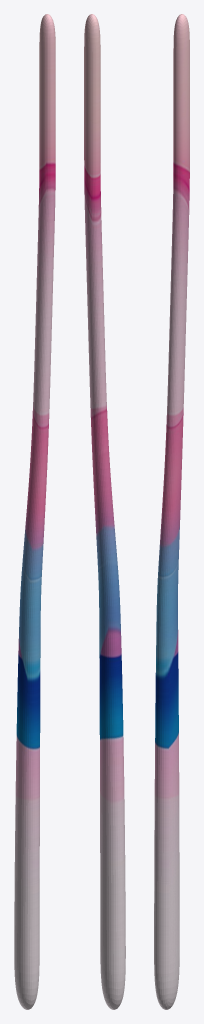
File: testTree.glb
The picture shows the model from 3 angles, left to right: view 1: azimuth 30°, elevation 25°; view 2: azimuth 210°, elevation 25°; view 3: azimuth 330°, elevation 25°; orthographic projection.
Visible parts, largest first — view 1: Cube.003; view 2: Cube.003; view 3: Cube.003.
Boxes of the visible parts, box(x1,y1,x2,y2) form: Cube.003: box(14, 14, 55, 1009); Cube.003: box(84, 14, 125, 1009); Cube.003: box(154, 14, 189, 1009).
Bounding box in the file's own units: 0.3678 × 10.3 × 0.2903.
1 material, 1 textured.
